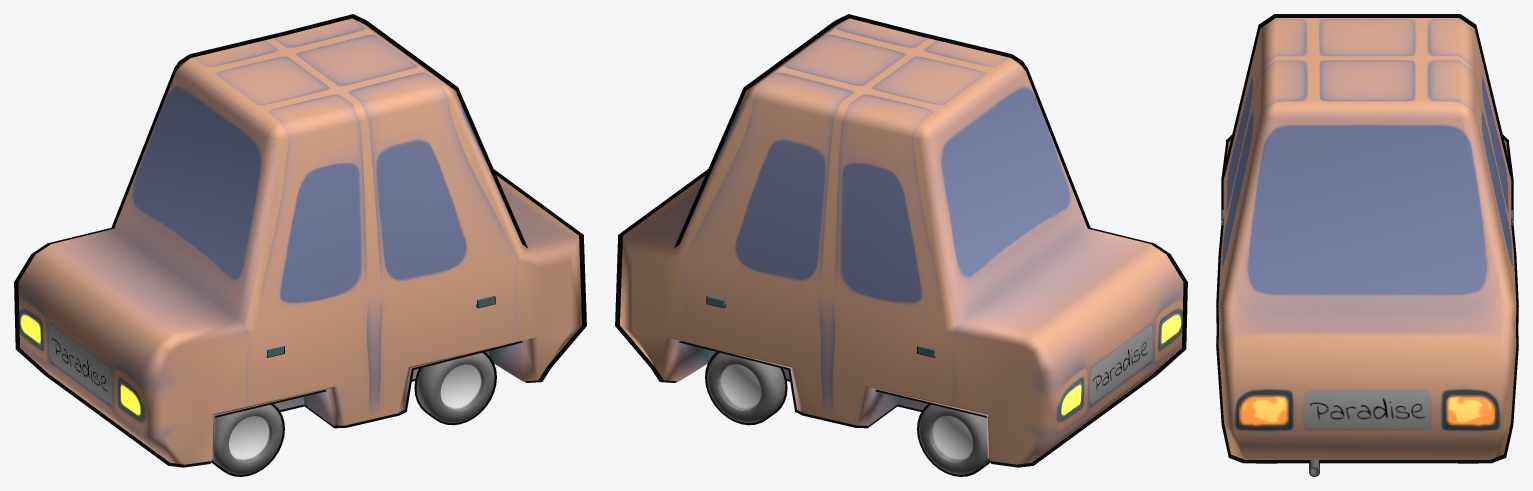
Rendered from coupe_car.glb.
The picture shows the model from 3 angles, left to right: view 1: azimuth 30°, elevation 25°; view 2: azimuth 150°, elevation 25°; view 3: azimuth 270°, elevation 25°; orthographic projection. The views are drawn at different scales.
Visible parts, largest first — view 1: Main, Wheels, Outline, OutlineWheel; view 2: Main, Wheels, Outline, OutlineWheel; view 3: Main, Outline.
Boxes of the visible parts, x1=… form: Main: x1=18, y1=18, x2=581, y2=464; Wheels: x1=213, y1=353, x2=494, y2=474; Outline: x1=14, y1=14, x2=586, y2=467; OutlineWheel: x1=211, y1=352, x2=496, y2=476; Main: x1=620, y1=18, x2=1183, y2=464; Wheels: x1=707, y1=353, x2=988, y2=474; Outline: x1=615, y1=14, x2=1187, y2=467; OutlineWheel: x1=705, y1=352, x2=990, y2=476; Main: x1=1218, y1=18, x2=1516, y2=459; Outline: x1=1216, y1=14, x2=1518, y2=463.
Size of the model in its own units: 5.4 by 3.94 by 3.03.
5 materials, 4 textured.
